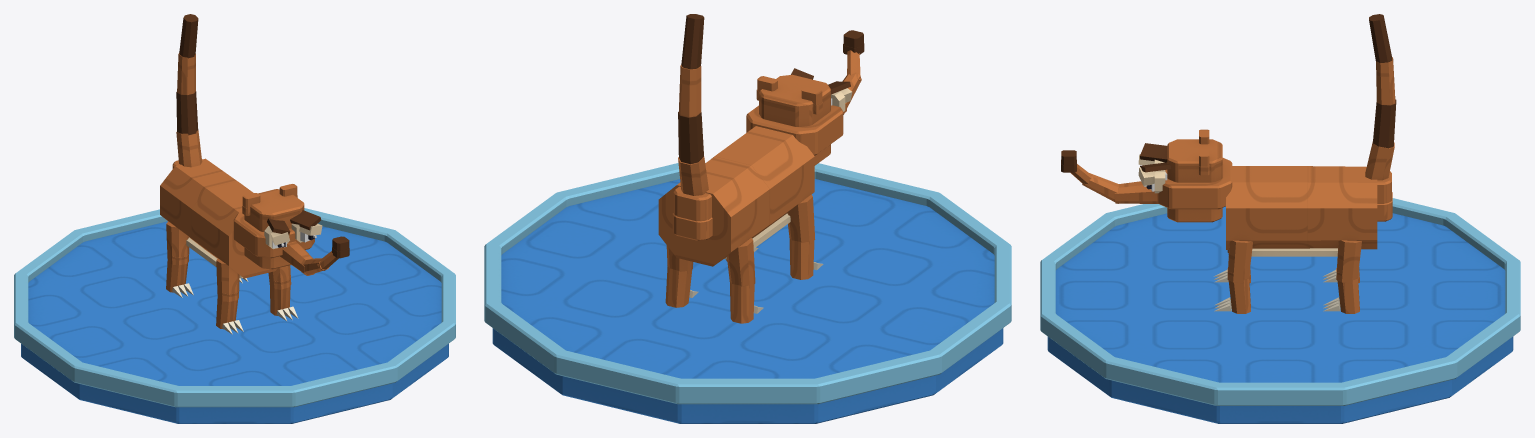
File: SniffCoati.fbx
3 renders of one model, left to right at view 1: azimuth 30°, elevation 25°; view 2: azimuth 150°, elevation 25°; view 3: azimuth 270°, elevation 25°, orthographic. The views are drawn at different scales.
Parts seen in each view (by area): view 1: Art_SniffCoati_Stand, Art_SniffCoati_Body, Art_SniffCoati_Head, Art_SniffCoati_Tail; view 2: Art_SniffCoati_Stand, Art_SniffCoati_Body, Art_SniffCoati_Head, Art_SniffCoati_Tail; view 3: Art_SniffCoati_Stand, Art_SniffCoati_Body, Art_SniffCoati_Head, Art_SniffCoati_Tail.
Part boxes in pixels (left/top/right/bottom): Art_SniffCoati_Stand: left=14, top=208, right=455, bottom=423; Art_SniffCoati_Body: left=160, top=158, right=298, bottom=334; Art_SniffCoati_Head: left=233, top=184, right=349, bottom=275; Art_SniffCoati_Tail: left=172, top=14, right=202, bottom=168; Art_SniffCoati_Stand: left=484, top=163, right=1011, bottom=423; Art_SniffCoati_Body: left=658, top=126, right=823, bottom=323; Art_SniffCoati_Head: left=746, top=30, right=864, bottom=165; Art_SniffCoati_Tail: left=672, top=14, right=712, bottom=240; Art_SniffCoati_Stand: left=1040, top=198, right=1520, bottom=423; Art_SniffCoati_Body: left=1214, top=166, right=1377, bottom=313; Art_SniffCoati_Head: left=1061, top=129, right=1232, bottom=222; Art_SniffCoati_Tail: left=1365, top=14, right=1396, bottom=221.
Bounding box in the file's own units: 3.09 × 2.2 × 3.09.
